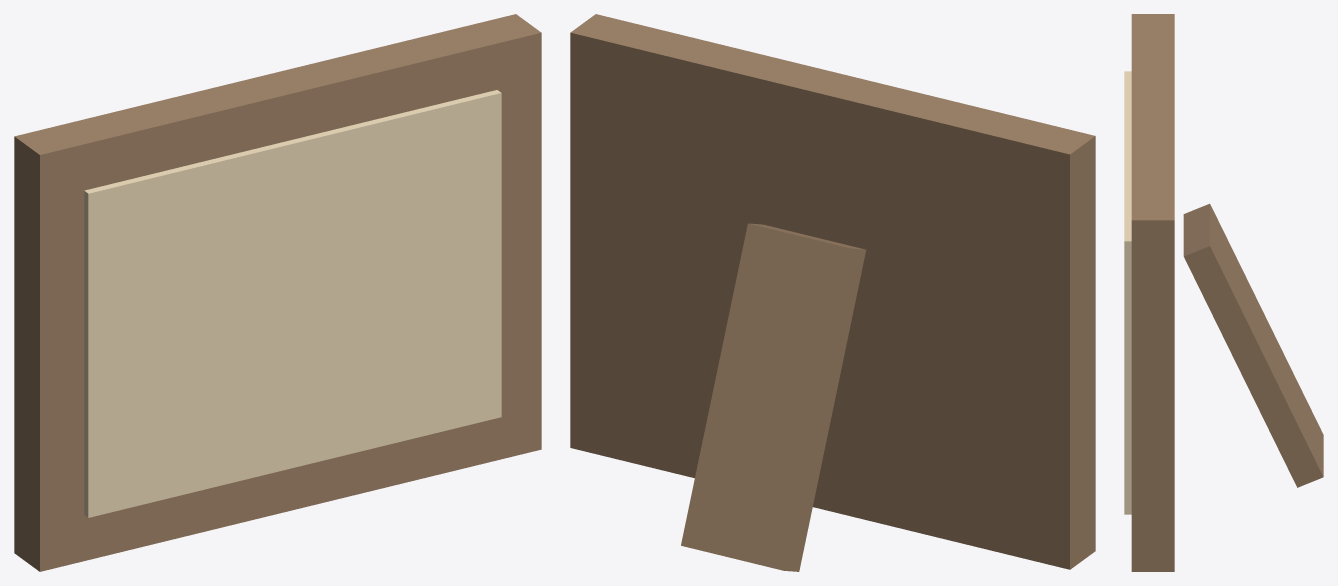
Rendered from decor_picture_frame.glb.
3 renders of one model, left to right at view 1: azimuth 30°, elevation 25°; view 2: azimuth 150°, elevation 25°; view 3: azimuth 270°, elevation 25°, orthographic. The views are drawn at different scales.
Parts seen in each view (by area): view 1: decor_picture_frame_canvas, decor_picture_frame_border; view 2: decor_picture_frame_border, decor_picture_frame_stand; view 3: decor_picture_frame_border, decor_picture_frame_stand, decor_picture_frame_canvas.
Part boxes in pixels (left/top/right/bottom): decor_picture_frame_canvas: left=84, top=90, right=501, bottom=517; decor_picture_frame_border: left=14, top=14, right=541, bottom=571; decor_picture_frame_border: left=570, top=14, right=1095, bottom=569; decor_picture_frame_stand: left=681, top=223, right=866, bottom=571; decor_picture_frame_border: left=1131, top=14, right=1174, bottom=571; decor_picture_frame_stand: left=1183, top=203, right=1323, bottom=487; decor_picture_frame_canvas: left=1124, top=71, right=1131, bottom=514.
Size of the model in its own units: 0.068 by 0.054 by 0.0277.
